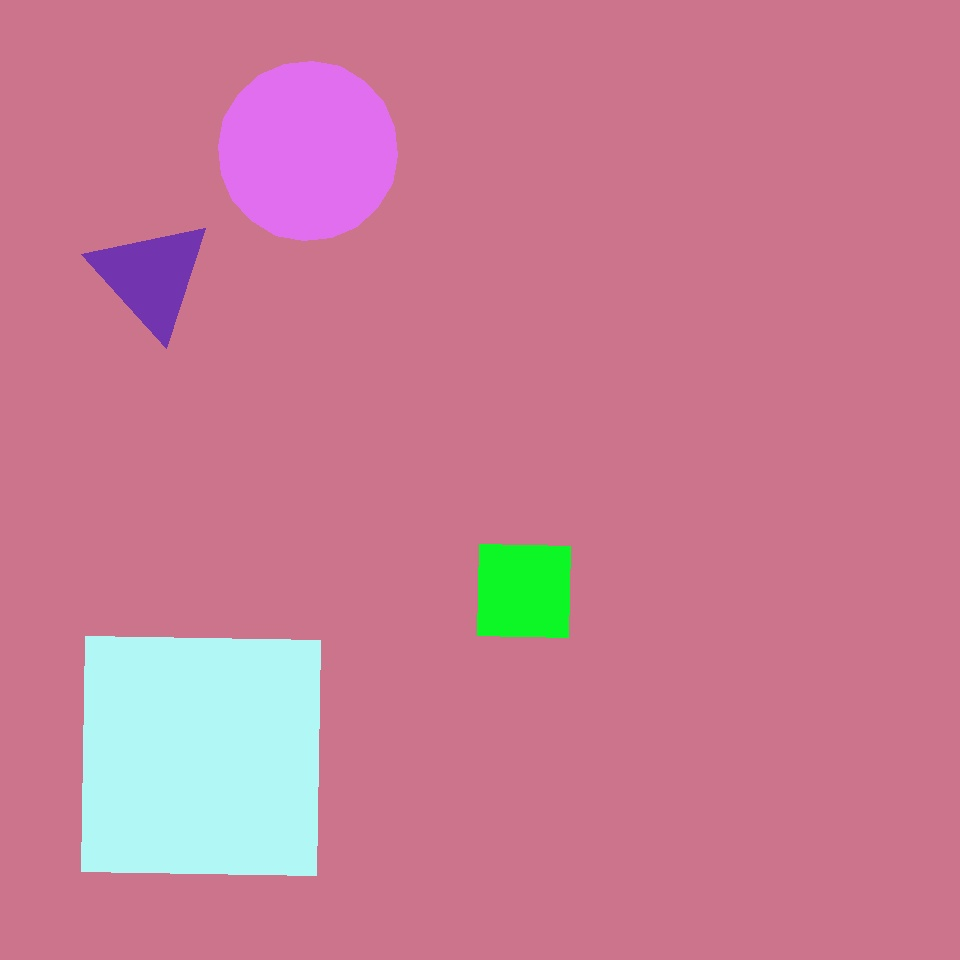circle: (89, 217, 213, 337)
square: (82, 636, 320, 876), (477, 544, 570, 638)
triangle: (219, 61, 398, 240)
